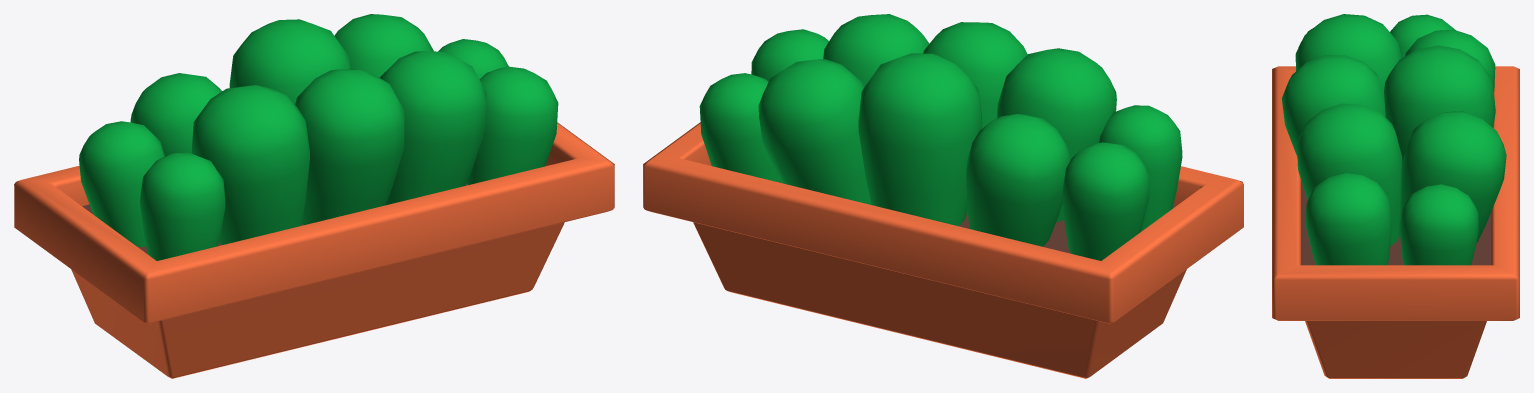
The model's file is Store_5_Plant_2.glb.
3 views of the same model, side by side, from view 1: azimuth 30°, elevation 25°; view 2: azimuth 150°, elevation 25°; view 3: azimuth 270°, elevation 25° (orthographic). The views are drawn at different scales.
Visible parts, largest first — view 1: Store_5_Plant_2; view 2: Store_5_Plant_2; view 3: Store_5_Plant_2.
Boxes of the visible parts, bbox=[...] form: Store_5_Plant_2: bbox=[14, 14, 614, 378]; Store_5_Plant_2: bbox=[643, 14, 1243, 378]; Store_5_Plant_2: bbox=[1272, 14, 1519, 378].
Size of the model in its own units: 1.84 by 0.9962 by 0.9069.
1 material, 1 textured.
